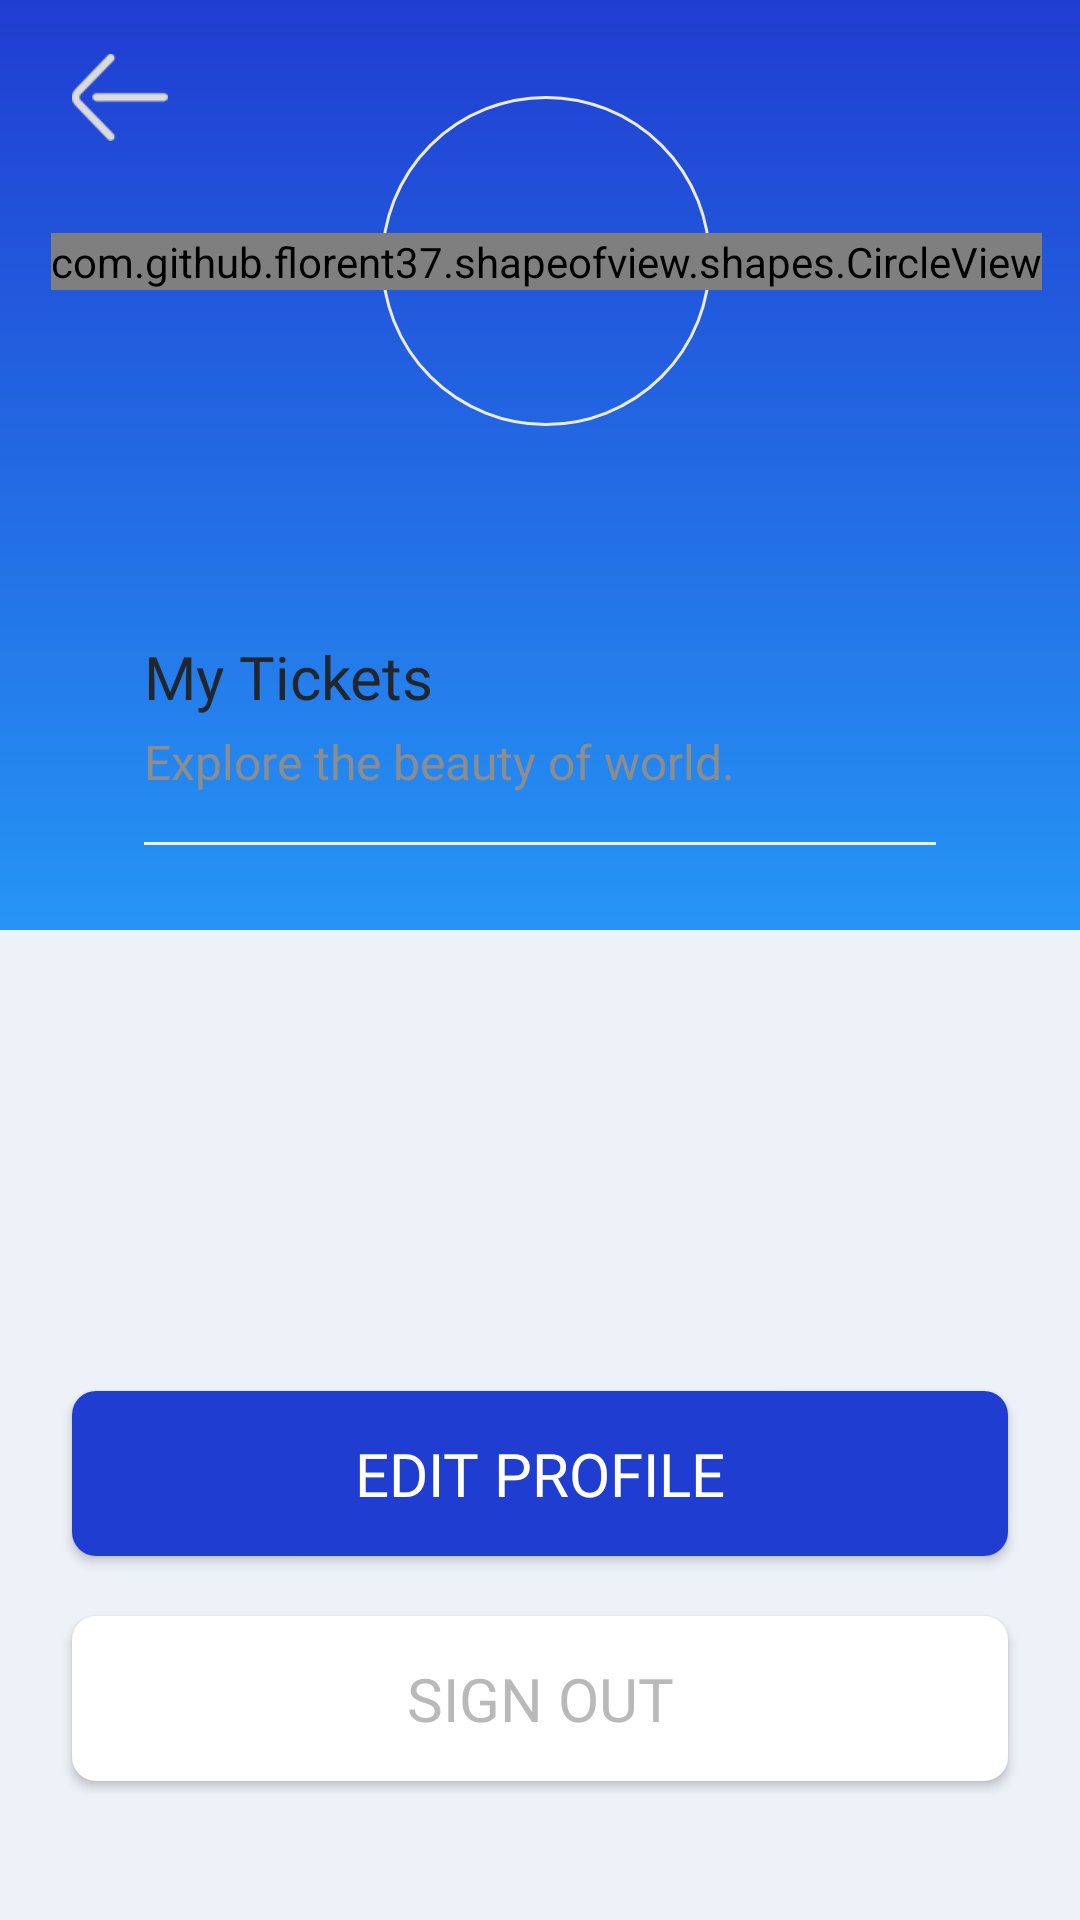

Named icons in this screenshot (1080px×1920px) and their centers, [x,y]:
back: [120,97]
